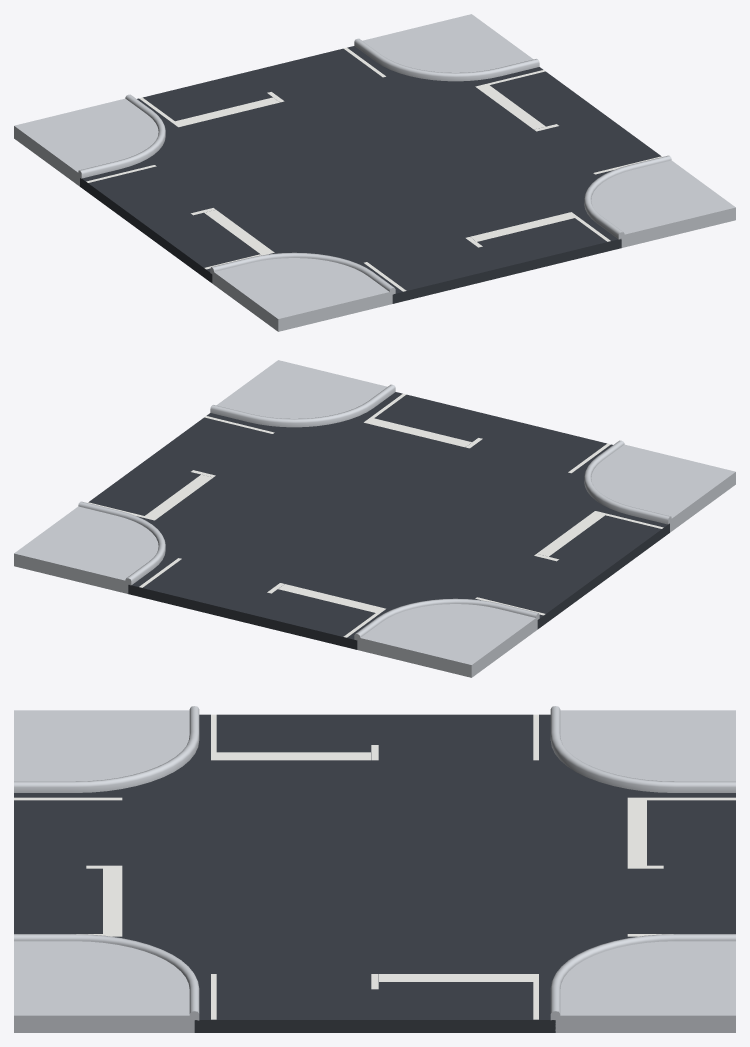
The model's file is rua_cruzamento_x.glb.
3 views of the same model, one above another, from view 1: azimuth 30°, elevation 25°; view 2: azimuth 150°, elevation 25°; view 3: azimuth 270°, elevation 25° (orthographic). The views are drawn at different scales.
Parts seen in each view (by area): view 1: rua_cruzamento_x; view 2: rua_cruzamento_x; view 3: rua_cruzamento_x.
Boxes of the visible parts, x1,y1,x2,y2 form: rua_cruzamento_x: (14, 14, 735, 331); rua_cruzamento_x: (14, 360, 735, 677); rua_cruzamento_x: (14, 706, 735, 1032).
Size of the model in its own units: 15 by 0.5 by 15.
1 material, 1 textured.
